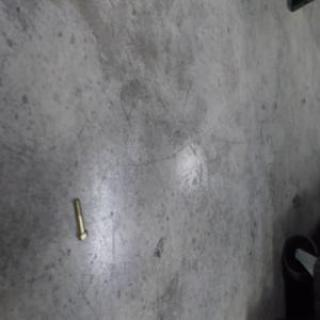Bolttrack_idkeyframe: (71, 196, 88, 242)
